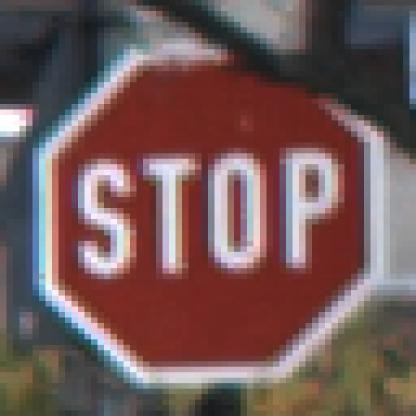stop: (26, 51, 404, 394)
